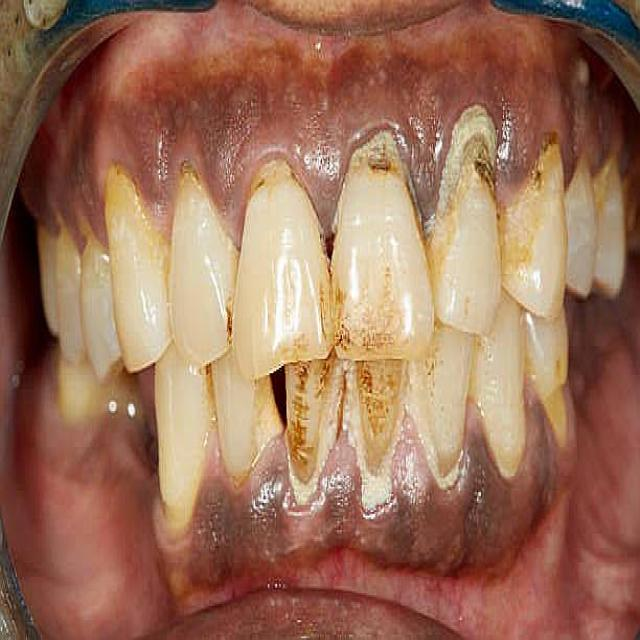caries: (310, 221, 345, 272)
